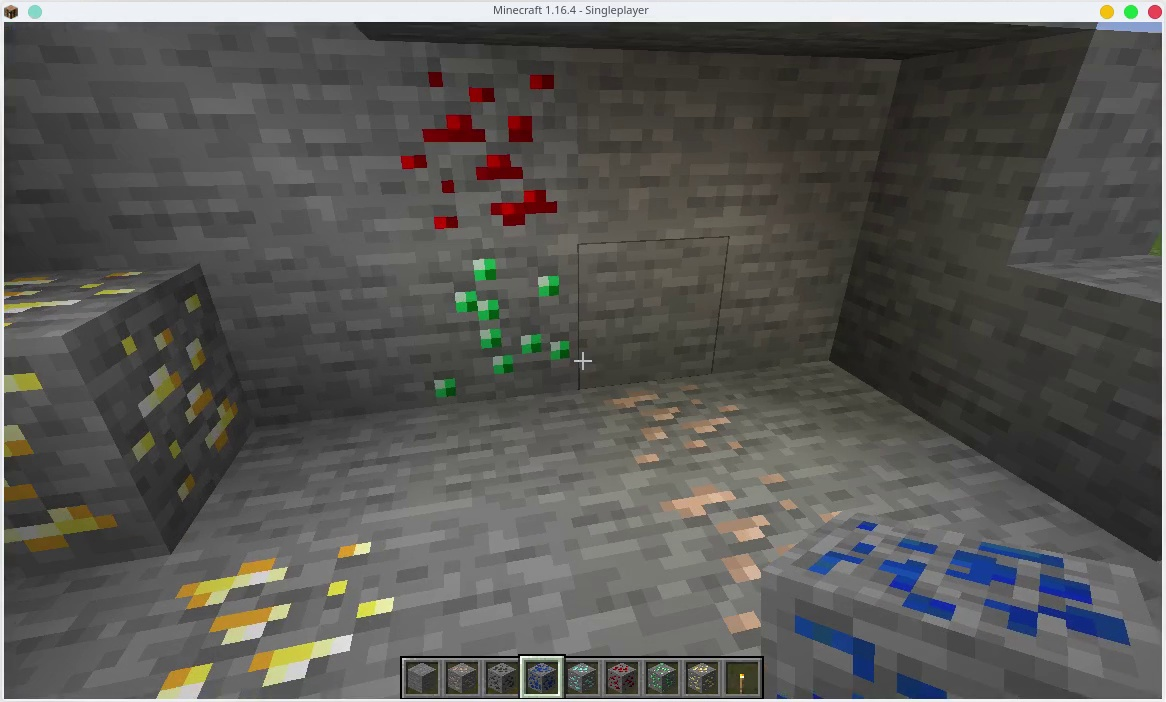gold: (4, 262, 218, 564), (162, 541, 404, 702), (683, 661, 719, 692)
